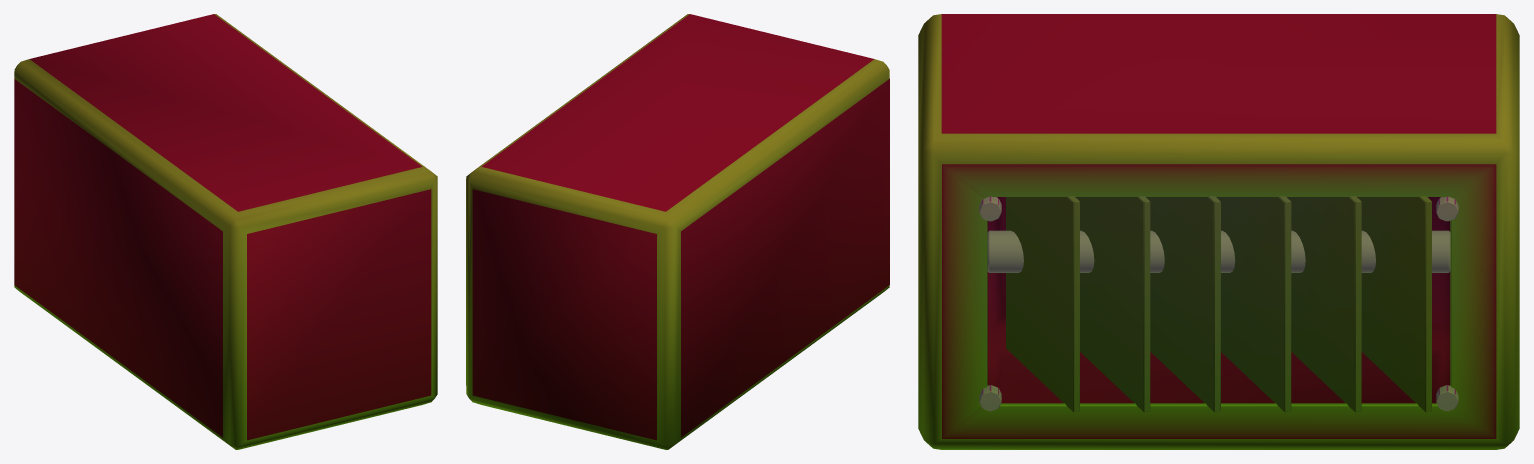
File: RCLModule_tidebreaker_skirmisher_tachyon_warp_radiator.fbx
3 views of the same model, side by side, from view 1: azimuth 30°, elevation 25°; view 2: azimuth 150°, elevation 25°; view 3: azimuth 270°, elevation 25° (orthographic). The views are drawn at different scales.
Visible parts, largest first — view 1: RCLModule_tidebreaker_skirmisher_tachyon_warp_radiator_Batch; view 2: RCLModule_tidebreaker_skirmisher_tachyon_warp_radiator_Batch; view 3: RCLModule_tidebreaker_skirmisher_tachyon_warp_radiator_Batch (×3).
Part boxes in pixels (left/top/right/bottom): RCLModule_tidebreaker_skirmisher_tachyon_warp_radiator_Batch: left=14, top=14, right=437, bottom=449; RCLModule_tidebreaker_skirmisher_tachyon_warp_radiator_Batch: left=466, top=14, right=889, bottom=449; RCLModule_tidebreaker_skirmisher_tachyon_warp_radiator_Batch (×3): left=918, top=14, right=1519, bottom=449.
Size of the model in its own units: 35.44 by 36 by 62.
